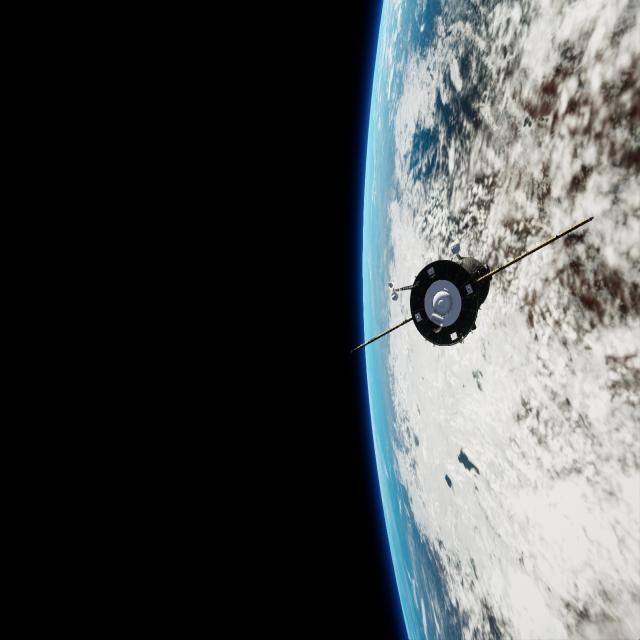Satellites revolving around earth: (358, 1, 638, 639), (407, 255, 491, 349)
